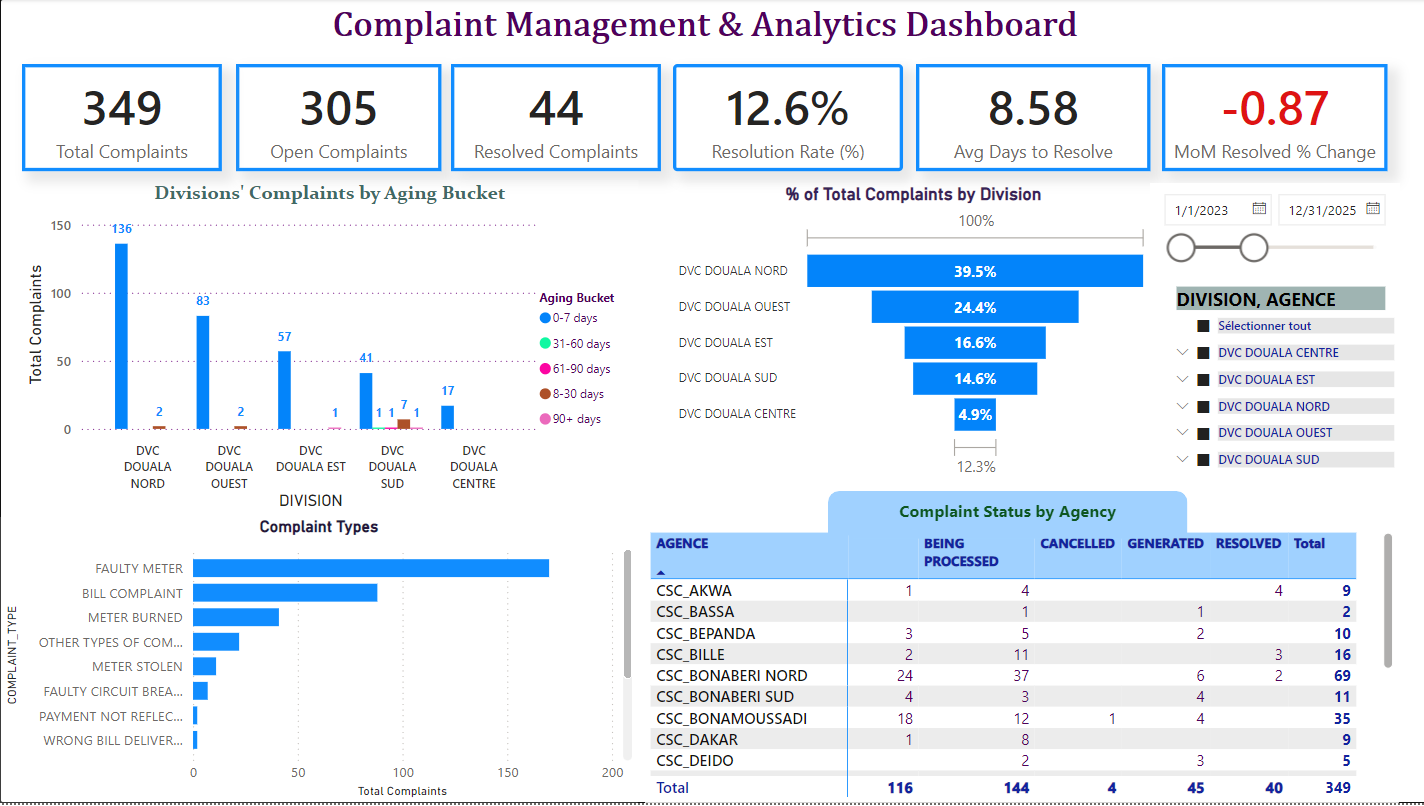

The page's visual inventory and layout, read from the dashboard file:
{"tool":"powerbi","page":{"name":"Dashboard","canvas":[1280,720],"ordinal":0},"visuals":[{"type":"group","id":"g1","title":"Groupe 1","box":[0,0,1253.3,719.6],"z":0},{"type":"card","fields":{"Values":["INSTANCE RECLAMATION.Open Complaints"]},"box":[211.6,57.9,184,96.1],"z":0,"group":"g1"},{"type":"card","fields":{"Values":["INSTANCE RECLAMATION.RESOLVED COMPLAINTS"]},"box":[404,57.9,187.7,96.1],"z":1000,"group":"g1"},{"type":"shape","box":[741.7,440.8,322.1,39.6],"z":1000},{"type":"card","fields":{"Values":["INSTANCE RECLAMATION.Resolution Rate (%)"]},"box":[602.7,57.9,206.1,96.1],"z":2000,"group":"g1"},{"type":"textbox","box":[763.8,443.5,277,39.6],"z":2000},{"type":"card","fields":{"Values":["INSTANCE RECLAMATION.Avg Days to Resolve"]},"box":[819.9,57.9,209.8,96.1],"z":3000,"group":"g1"},{"type":"funnel","title":"% of Total Complaints by Division","fields":{"Category":["INSTANCE RECLAMATION.DIVISION"],"Y":["INSTANCE RECLAMATION.% of Total Complaints"]},"box":[591.9,164.8,441.5,267.8],"z":4000,"group":"g1"},{"type":"clusteredColumnChart","title":"Divisions'' Complaints by Aging Bucket ","fields":{"Y":["INSTANCE RECLAMATION.Total Complaints"],"Category":["INSTANCE RECLAMATION.DIVISION"],"Series":["INSTANCE RECLAMATION.Aging Bucket"]},"box":[18.4,162.4,553,299.6],"z":5000,"group":"g1"},{"type":"card","fields":{"Values":["INSTANCE RECLAMATION.Total Complaints"]},"box":[19.3,57.9,178.5,96.1],"z":6000,"group":"g1"},{"type":"clusteredBarChart","title":"Complaint Types","fields":{"Category":["INSTANCE RECLAMATION.COMPLAINT_TYPE"],"Y":["INSTANCE RECLAMATION.Total Complaints"]},"box":[0,463.9,571.4,255.7],"z":7000,"group":"g1"},{"type":"card","fields":{"Values":["INSTANCE RECLAMATION.MoM Resolved % Change"]},"box":[1040.7,57.9,202.4,96.1],"z":8000,"group":"g1"},{"type":"textbox","box":[18.4,0,1224.8,49.5],"z":10000,"group":"g1"},{"type":"slicer","fields":{"Values":["INSTANCE RECLAMATION.DIVISION","INSTANCE RECLAMATION.AGENCE"]},"box":[1040.7,252.9,212.6,179.2],"z":11000,"group":"g1"},{"type":"slicer","fields":{"Values":["DateTable.Date"]},"box":[1029.7,165.2,223.6,87.7],"z":12000,"group":"g1"},{"type":"pivotTable","fields":{"Rows":["INSTANCE RECLAMATION.AGENCE"],"Values":["INSTANCE RECLAMATION.Total Complaints"],"Columns":["INSTANCE RECLAMATION.COMPLAINT_SERVICE_ORDER_STATUS"]},"box":[577.9,473,675.4,246.6],"z":13000,"group":"g1"}]}

Visuals, with their boxes in screenshot pixels (x1, y1, x2, y2), scaled from the page's 1280x720 canvas onto the 1424x806 screenshot:
"Groupe 1" group: 0:0:1394:805
card - INSTANCE RECLAMATION.Open Complaints: 235:65:440:172
card - INSTANCE RECLAMATION.RESOLVED COMPLAINTS: 449:65:658:172
shape: 825:493:1183:538
card - INSTANCE RECLAMATION.Resolution Rate (%): 671:65:900:172
textbox: 850:496:1158:541
card - INSTANCE RECLAMATION.Avg Days to Resolve: 912:65:1146:172
"% of Total Complaints by Division" funnel: 658:184:1150:484
"Divisions'' Complaints by Aging Bucket " clusteredColumnChart: 20:182:636:517
card - INSTANCE RECLAMATION.Total Complaints: 21:65:220:172
"Complaint Types" clusteredBarChart: 0:519:636:805
card - INSTANCE RECLAMATION.MoM Resolved % Change: 1158:65:1383:172
textbox: 20:0:1383:55
slicer - INSTANCE RECLAMATION.DIVISION x INSTANCE RECLAMATION.AGENCE: 1158:283:1394:484
slicer - DateTable.Date: 1146:185:1394:283
pivotTable - INSTANCE RECLAMATION.AGENCE x INSTANCE RECLAMATION.Total Complaints: 643:529:1394:805
